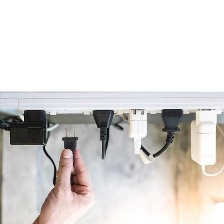three_eye_plug: (0, 89, 224, 122)
